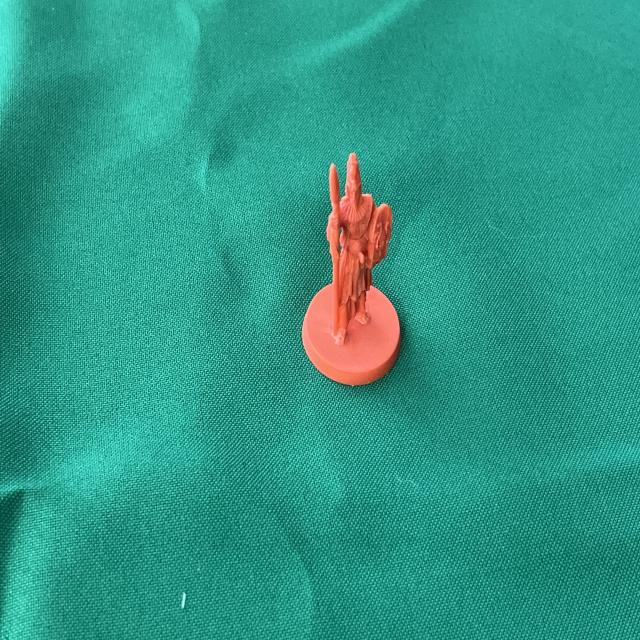amon_follower: (302, 153, 400, 385)
